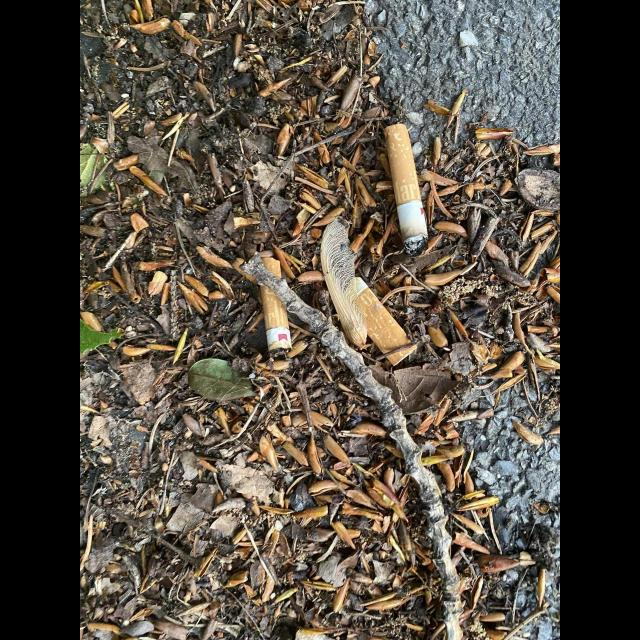cigarette: (384, 123, 428, 256), (354, 276, 418, 366), (260, 257, 292, 355)
